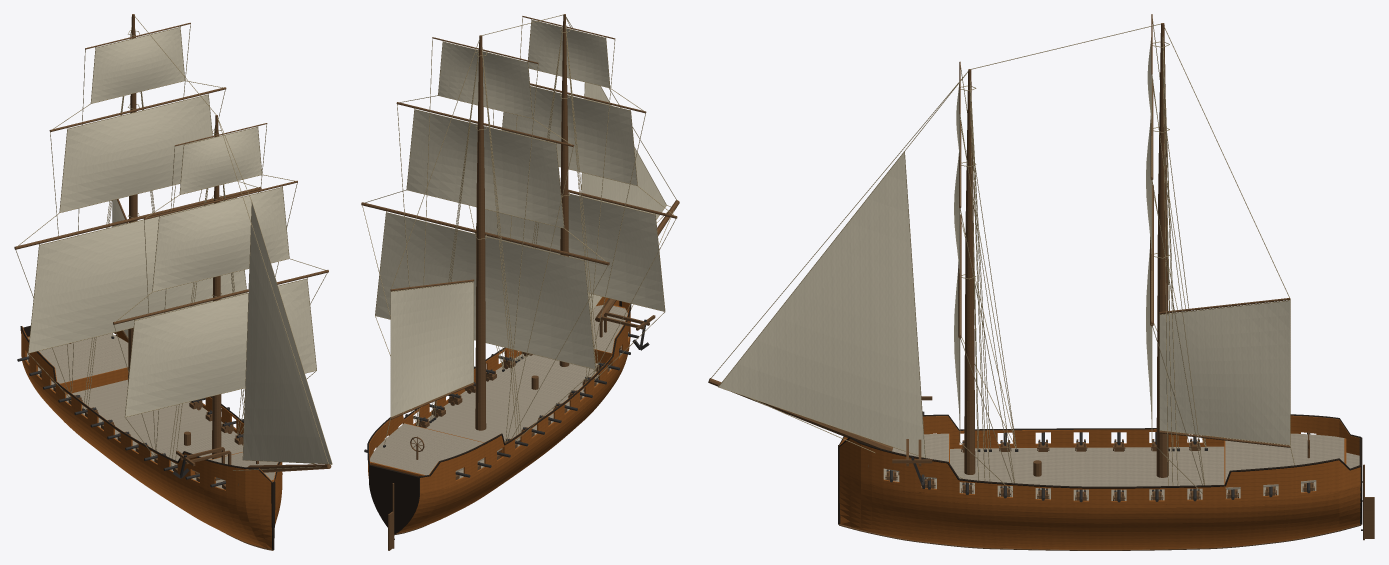
3 views of the same model, side by side, from view 1: azimuth 30°, elevation 25°; view 2: azimuth 150°, elevation 25°; view 3: azimuth 270°, elevation 25° (orthographic). The views are drawn at different scales.
Visible parts, largest first — view 1: lod2_main_square_00, lod2_fore_square_00, lod2_jib_00, lod2_hull_shell_starboard, lod2_main_square_01, lod2_fore_square_01, lod2_main_deck, lod2_main_square_02, lod2_fore_square_02, lod2_castle_deck_0, lod2_fore, lod2_main_square_00_yard (+10 smaller); view 2: lod2_main_square_00, lod2_main_square_01, lod2_fore_square_00, lod2_main_gaff_03, lod2_hull_shell_starboard, lod2_main_deck, lod2_fore_square_01, lod2_main_square_02, lod2_fore_square_02, lod2_main, lod2_castle_deck_0, lod2_jib_00 (+12 smaller); view 3: lod2_hull_shell_port, lod2_jib_00, lod2_main_gaff_03, lod2_main_deck, lod2_hull_shell_starboard, lod2_fore, lod2_castle_deck_0, lod2_main, lod2_gunwale_port, lod2_keel.
Boxes of the visible parts, bbox=[...] form: lod2_main_square_00: bbox=[28, 197, 246, 352]; lod2_fore_square_00: bbox=[125, 279, 316, 416]; lod2_jib_00: bbox=[243, 203, 331, 463]; lod2_hull_shell_starboard: bbox=[21, 326, 272, 548]; lod2_main_square_01: bbox=[60, 95, 212, 212]; lod2_fore_square_01: bbox=[153, 187, 289, 291]; lod2_main_deck: bbox=[27, 353, 242, 488]; lod2_main_square_02: bbox=[91, 27, 184, 103]; lod2_fore_square_02: bbox=[180, 127, 261, 194]; lod2_castle_deck_0: bbox=[28, 333, 128, 383]; lod2_fore: bbox=[212, 115, 221, 459]; lod2_main_square_00_yard: bbox=[14, 187, 261, 249]; lod2_main_square_00: bbox=[375, 213, 595, 368]; lod2_main_square_01: bbox=[407, 110, 563, 227]; lod2_fore_square_00: bbox=[476, 194, 664, 311]; lod2_main_gaff_03: bbox=[391, 282, 473, 416]; lod2_hull_shell_starboard: bbox=[397, 301, 630, 533]; lod2_main_deck: bbox=[426, 332, 628, 478]; lod2_fore_square_01: bbox=[502, 86, 637, 185]; lod2_main_square_02: bbox=[438, 42, 532, 117]; lod2_fore_square_02: bbox=[528, 20, 609, 87]; lod2_main: bbox=[475, 35, 486, 430]; lod2_castle_deck_0: bbox=[370, 423, 502, 475]; lod2_jib_00: bbox=[581, 82, 666, 312]; lod2_hull_shell_port: bbox=[839, 438, 1360, 549]; lod2_jib_00: bbox=[719, 152, 924, 457]; lod2_main_gaff_03: bbox=[1160, 301, 1289, 444]; lod2_main_deck: bbox=[883, 446, 1359, 500]; lod2_hull_shell_starboard: bbox=[839, 415, 1359, 455]; lod2_fore: bbox=[964, 69, 975, 474]; lod2_castle_deck_0: bbox=[1225, 433, 1344, 489]; lod2_main: bbox=[1156, 23, 1168, 477]; lod2_gunwale_port: bbox=[839, 436, 1361, 488]; lod2_keel: bbox=[839, 524, 1361, 550].
Bounding box in the file's own units: 21.43 × 37.95 × 43.44.
7 materials, 7 textured.
